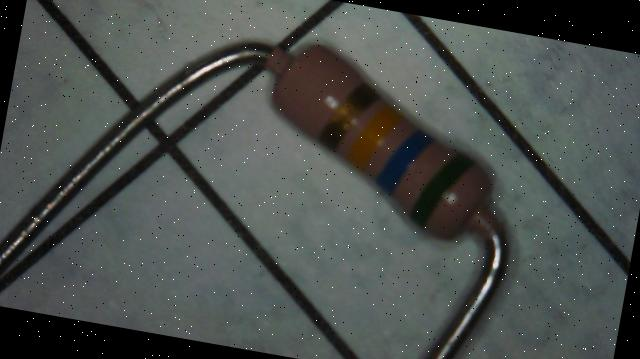blue: (374, 124, 434, 200)
gold: (318, 76, 381, 156)
green: (408, 146, 474, 234)
resistor: (246, 16, 540, 275)
yellow: (346, 98, 405, 175)
